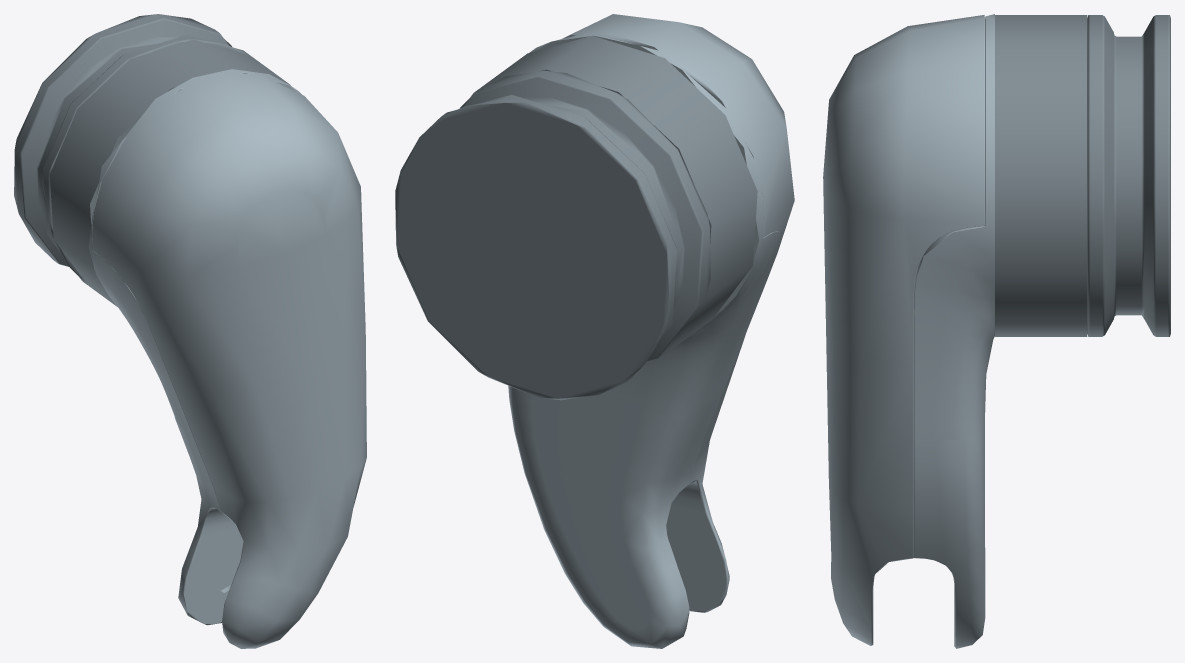
File: hip.dae
The picture shows the model from 3 angles, left to right: view 1: azimuth 30°, elevation 25°; view 2: azimuth 150°, elevation 25°; view 3: azimuth 270°, elevation 25°; orthographic projection. The views are drawn at different scales.
Visible parts, largest first — view 1: hip; view 2: hip; view 3: hip.
Part boxes in pixels (x1,y1,x2,y2): hip: (14, 14, 366, 648); hip: (395, 14, 794, 648); hip: (823, 14, 1170, 648).
Bounding box in the file's own units: 0.0837 × 0.0902 × 0.1765.
